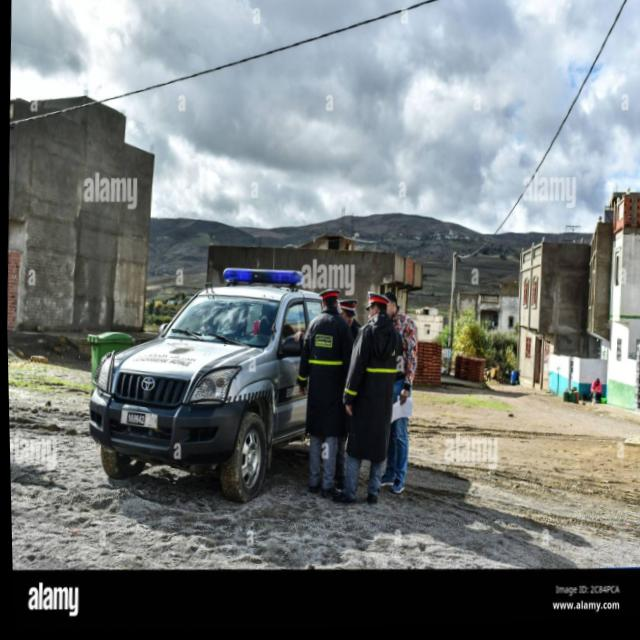gendarme car: (77, 251, 336, 515)
